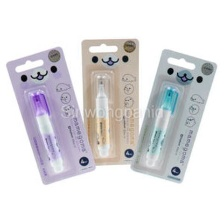book: (4, 44, 97, 187), (127, 47, 218, 185), (79, 35, 141, 168)
correction_fluid: (25, 88, 64, 174), (141, 85, 180, 169), (90, 73, 113, 158)
